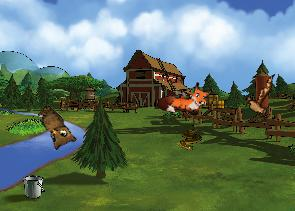eagle: (239, 74, 280, 125)
fox: (156, 76, 213, 119)
owl: (27, 103, 80, 155)
